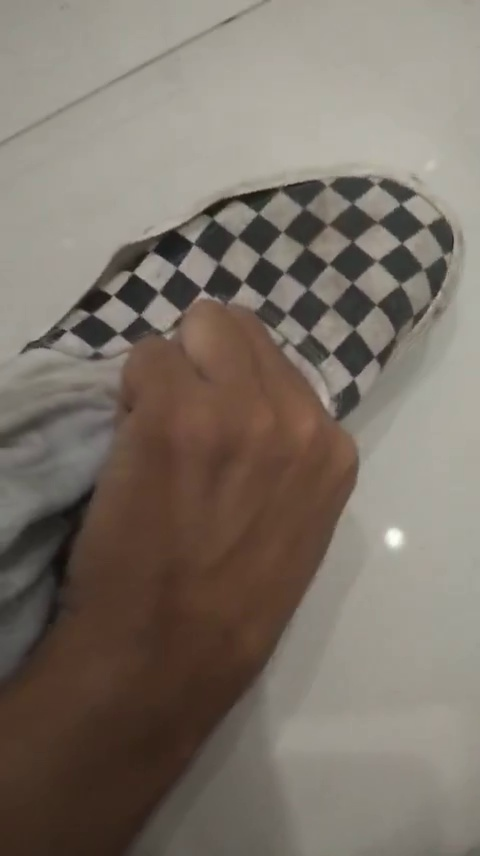bonding: (71, 220, 175, 313)
